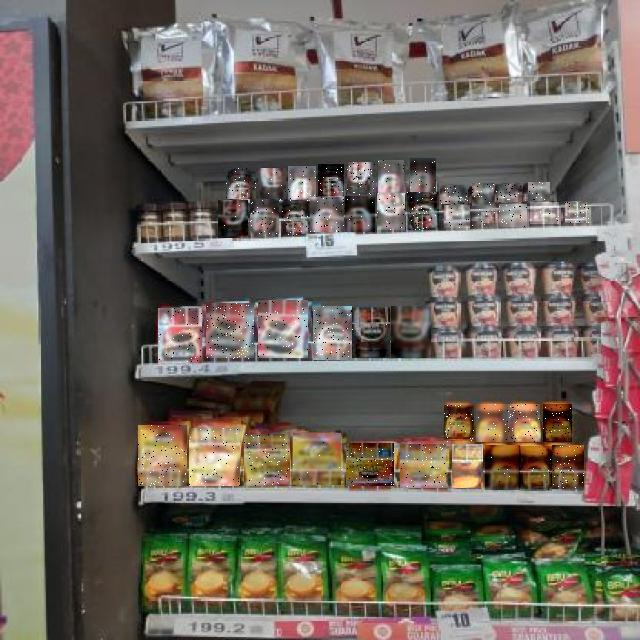Coffee: (138, 425, 187, 486), (189, 428, 240, 486), (258, 300, 308, 358), (206, 304, 254, 360), (293, 433, 341, 485), (158, 308, 202, 363), (244, 434, 290, 486), (313, 306, 352, 360), (391, 307, 431, 359), (346, 443, 394, 486), (400, 444, 446, 488), (352, 307, 390, 358), (485, 445, 520, 490), (519, 446, 552, 491), (553, 445, 585, 489), (452, 444, 483, 488), (407, 193, 439, 231), (508, 404, 540, 442), (477, 404, 509, 442), (310, 197, 344, 232), (218, 200, 248, 238), (444, 406, 474, 444), (543, 404, 572, 442), (345, 196, 375, 232), (377, 194, 405, 232), (250, 200, 279, 236), (282, 199, 309, 236), (227, 167, 257, 199), (348, 162, 376, 196), (289, 166, 317, 200), (259, 168, 287, 200), (410, 159, 436, 193), (379, 160, 405, 194), (319, 164, 345, 196), (499, 204, 527, 227), (530, 202, 559, 224), (444, 206, 470, 230), (472, 206, 497, 228), (440, 185, 468, 204), (472, 183, 494, 206), (566, 202, 590, 223), (496, 184, 522, 202), (528, 182, 550, 201)
